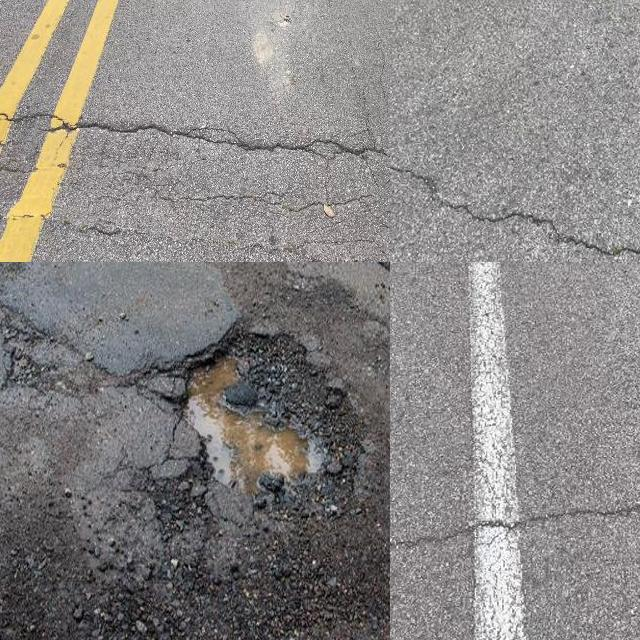Lubang: (159, 325, 366, 509)
Melintang: (0, 100, 390, 174), (390, 149, 640, 262), (390, 490, 640, 566)
